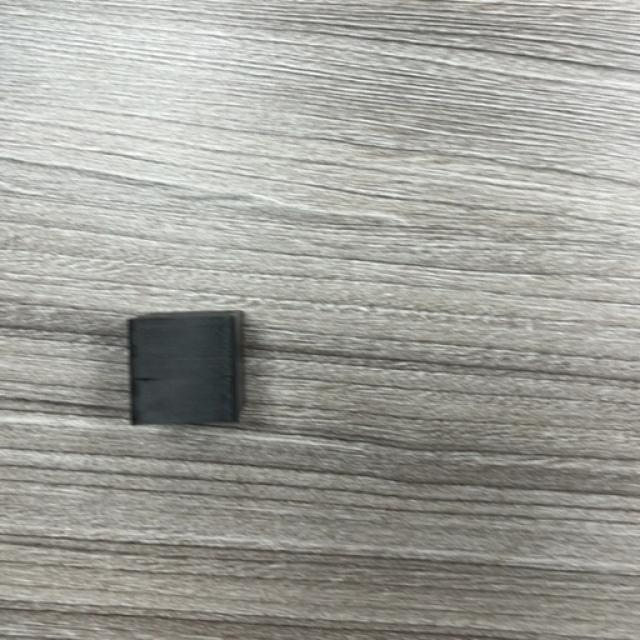Negro: (126, 311, 248, 428)
